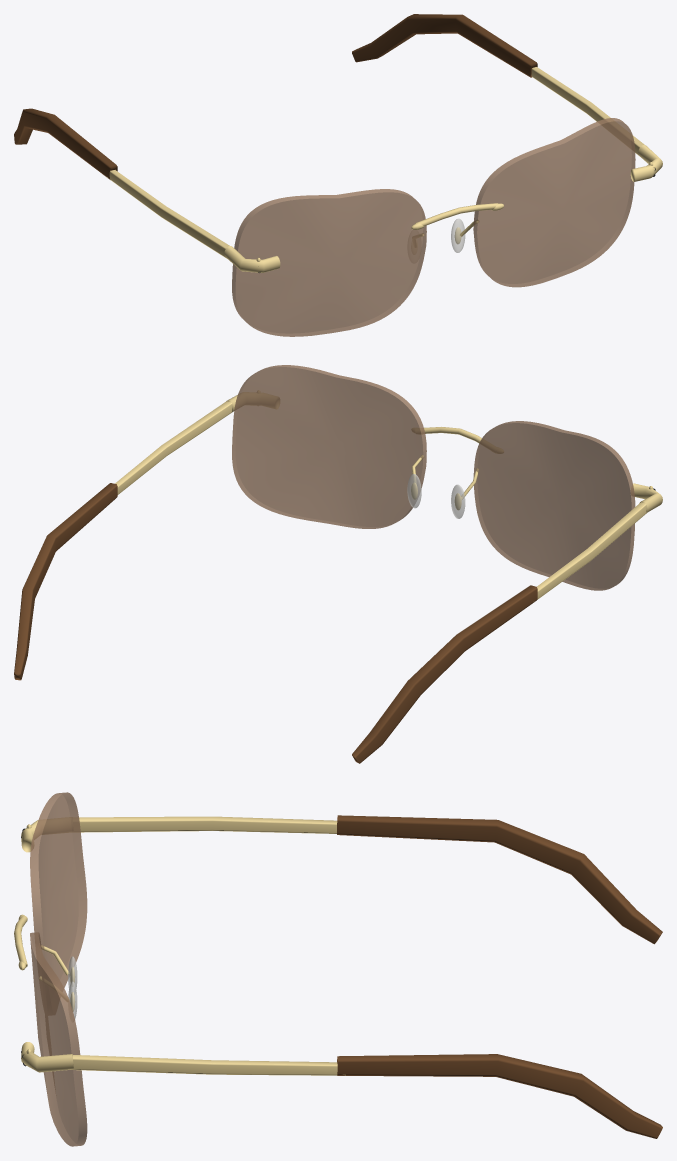
Rendered from oculos-03-rimless-pantera.glb.
3 views of the same model, one above another, from view 1: azimuth 30°, elevation 25°; view 2: azimuth 150°, elevation 25°; view 3: azimuth 270°, elevation 25° (orthographic). The views are drawn at different scales.
Visible parts, largest first — view 1: M03_Lens_L, M03_Lens_R, TempleTip_R, TempleTip_L, TempleMetal_L, TempleMetal_R, M03_PantherBody_L, M03_PantherBody_R, M03_RimlessBridge_Gold; view 2: M03_Lens_R, M03_Lens_L, TempleTip_L, TempleTip_R, TempleMetal_R, TempleMetal_L, M03_PantherBody_R; view 3: M03_Lens_L, TempleTip_L, TempleTip_R, M03_Lens_R, TempleMetal_R, TempleMetal_L, M03_PantherBody_R, M03_PantherBody_L.
Boxes of the visible parts, bbox=[...] form: M03_Lens_L: bbox=[232, 189, 426, 336]; M03_Lens_R: bbox=[473, 118, 635, 287]; TempleTip_R: bbox=[352, 14, 537, 77]; TempleTip_L: bbox=[14, 108, 117, 179]; TempleMetal_L: bbox=[106, 170, 229, 258]; TempleMetal_R: bbox=[531, 67, 644, 156]; M03_PantherBody_L: bbox=[224, 246, 280, 272]; M03_PantherBody_R: bbox=[630, 145, 662, 181]; M03_RimlessBridge_Gold: bbox=[415, 203, 497, 225]; M03_Lens_R: bbox=[232, 365, 426, 528]; M03_Lens_L: bbox=[473, 421, 635, 590]; TempleTip_L: bbox=[352, 585, 537, 763]; TempleTip_R: bbox=[14, 483, 117, 680]; TempleMetal_R: bbox=[115, 401, 232, 494]; TempleMetal_L: bbox=[533, 502, 647, 602]; M03_PantherBody_R: bbox=[226, 392, 279, 412]; M03_Lens_L: bbox=[30, 792, 87, 987]; TempleTip_L: bbox=[337, 815, 662, 944]; TempleTip_R: bbox=[337, 1054, 662, 1138]; M03_Lens_R: bbox=[30, 932, 87, 1146]; TempleMetal_R: bbox=[68, 1055, 345, 1075]; TempleMetal_L: bbox=[73, 816, 337, 833]; M03_PantherBody_R: bbox=[21, 1042, 73, 1072]; M03_PantherBody_L: bbox=[21, 817, 73, 852].
Size of the model in its own units: 0.1364 by 0.0439 by 0.1513.
